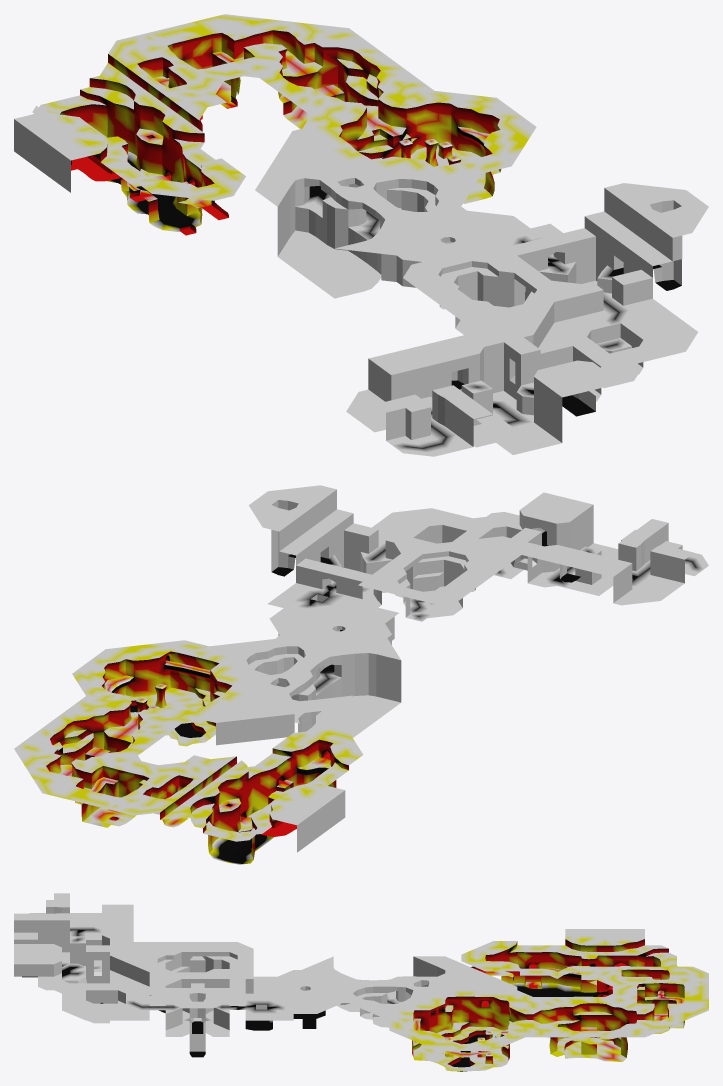
File: level-6.glb
The picture shows the model from 3 angles, top to bottom: view 1: azimuth 30°, elevation 25°; view 2: azimuth 150°, elevation 25°; view 3: azimuth 270°, elevation 25°; orthographic projection. The views are drawn at different scales.
Visible parts, largest first — view 1: level-6; view 2: level-6; view 3: level-6.
Part boxes in pixels (box(x1,y1,x2,y2)): level-6: box(14, 14, 708, 456); level-6: box(14, 485, 708, 864); level-6: box(14, 893, 708, 1071).
Bounding box in the file's own units: 150 × 42 × 305.
